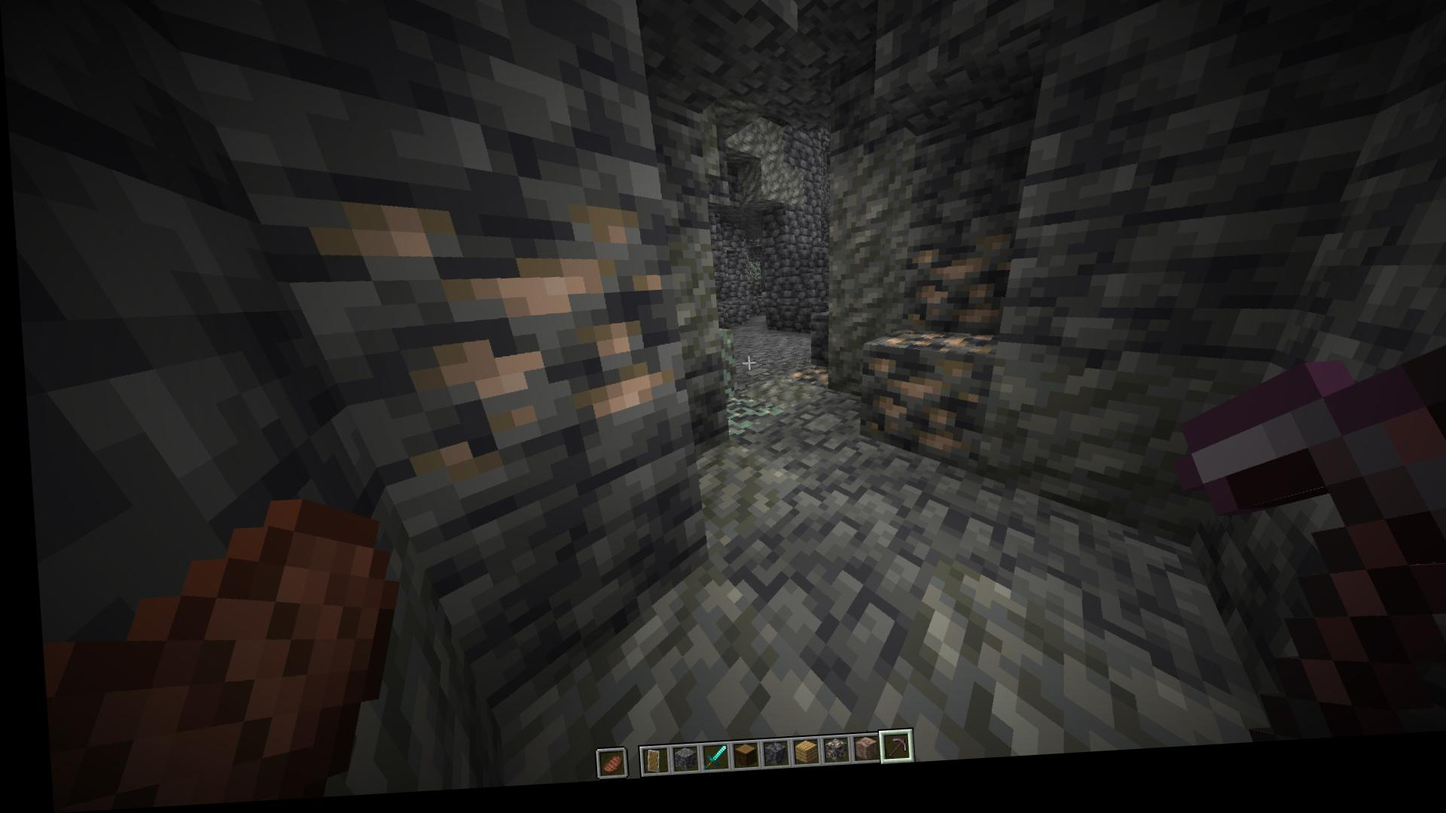iron ore: (320, 190, 674, 480), (855, 338, 992, 484), (892, 245, 1005, 345), (784, 370, 825, 401)
